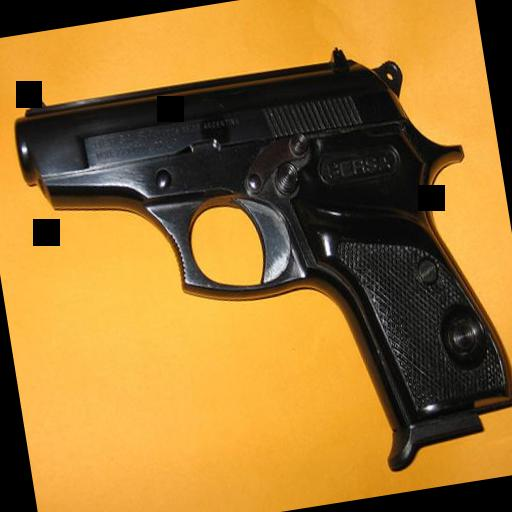Handgun: (5, 26, 512, 512)
